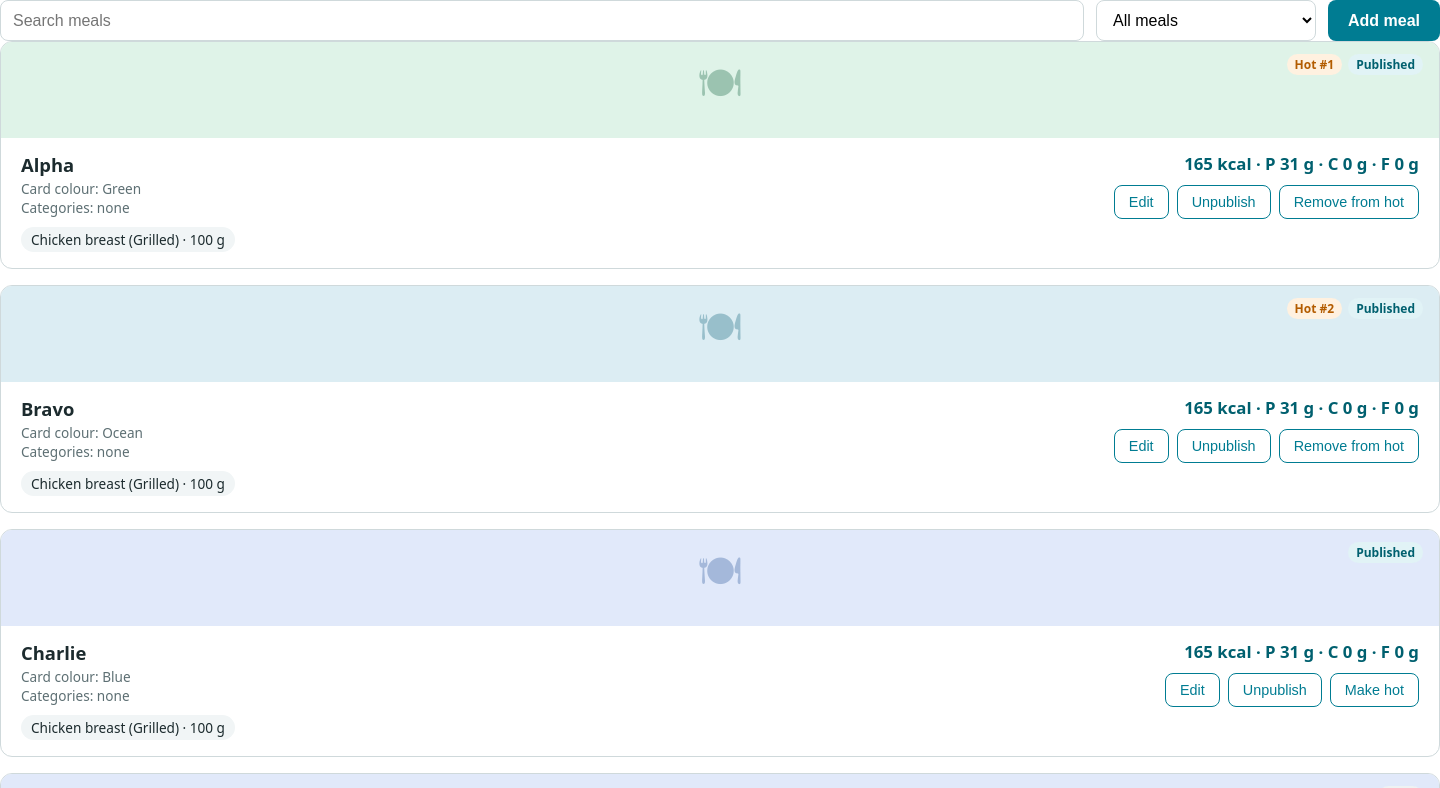
hot meals › unticking Published also unticks Hot, and a draft cannot be hot
Click the button "Edit" in the row of "Green" at (1141, 202), box [1114,185,1169,219]
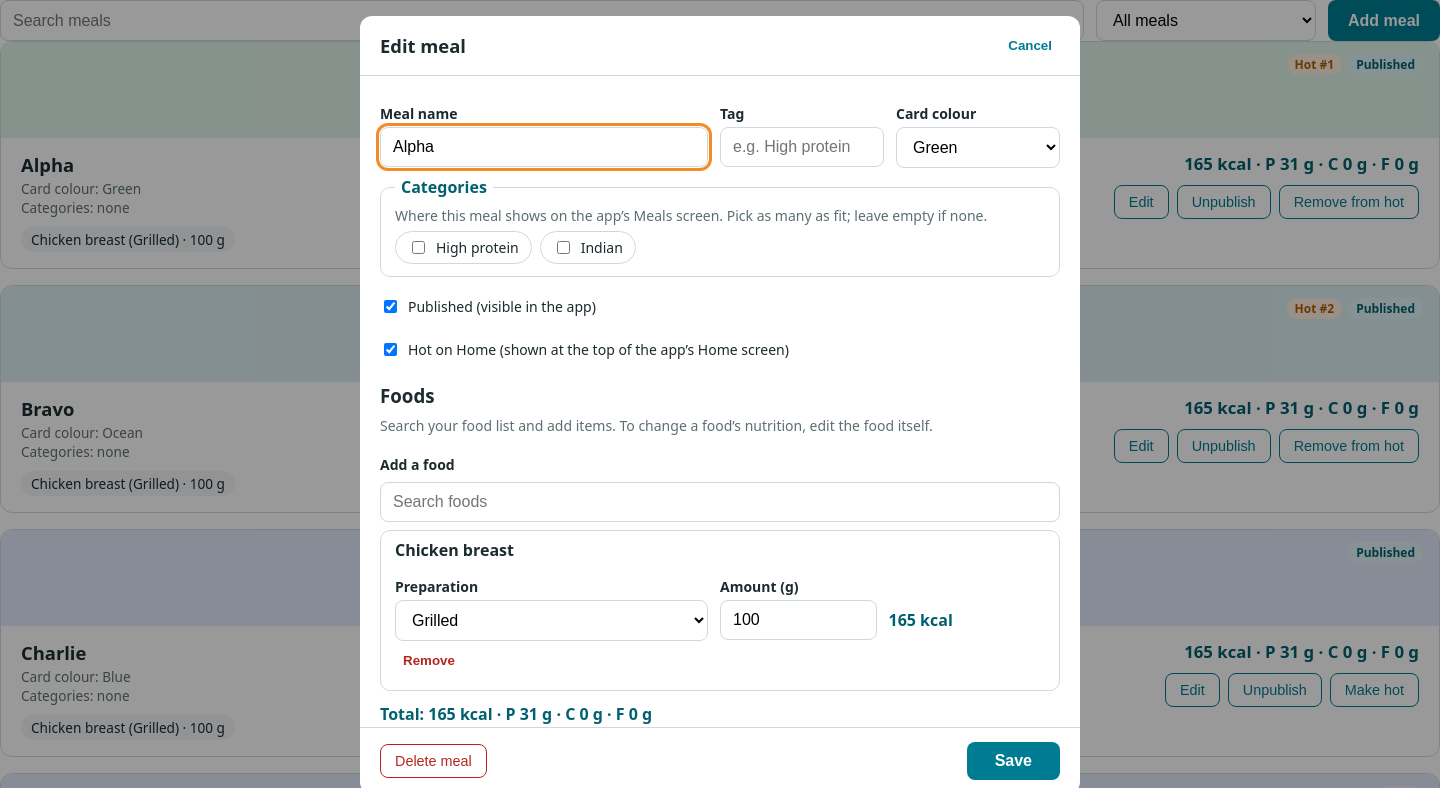
expect the checkbox labelled "Hot on Home (shown at the top of the app’s Home screen)" is checked: met, box [384,343,397,356]
Click the checkbox labelled "Published (visible in the app)" at (390, 306), box [384,300,397,313]
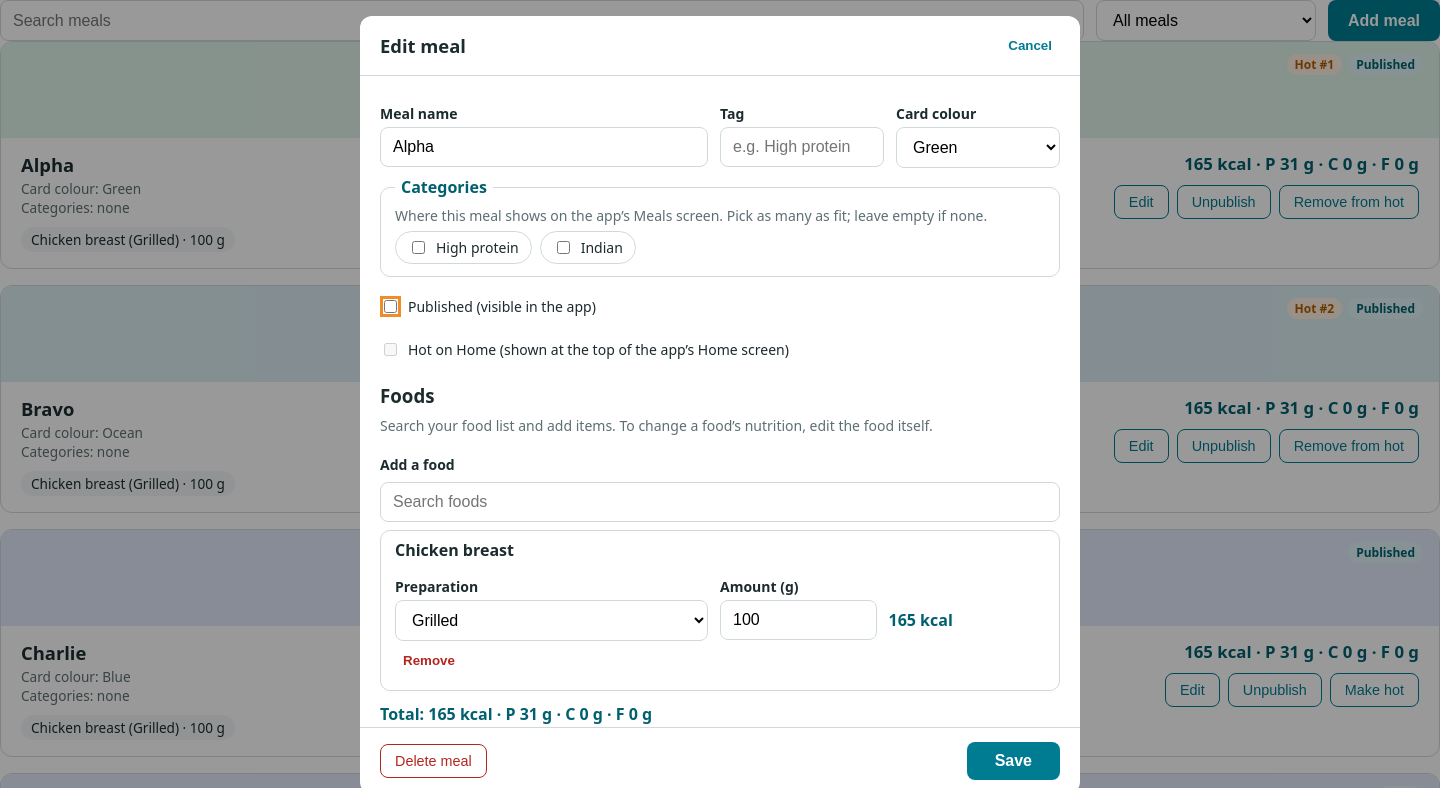
expect the checkbox labelled "Hot on Home (shown at the top of the app’s Home screen)" is not checked: met, box [384,343,397,356]
expect the checkbox labelled "Hot on Home (shown at the top of the app’s Home screen)" is disabled: met, box [384,343,397,356]
